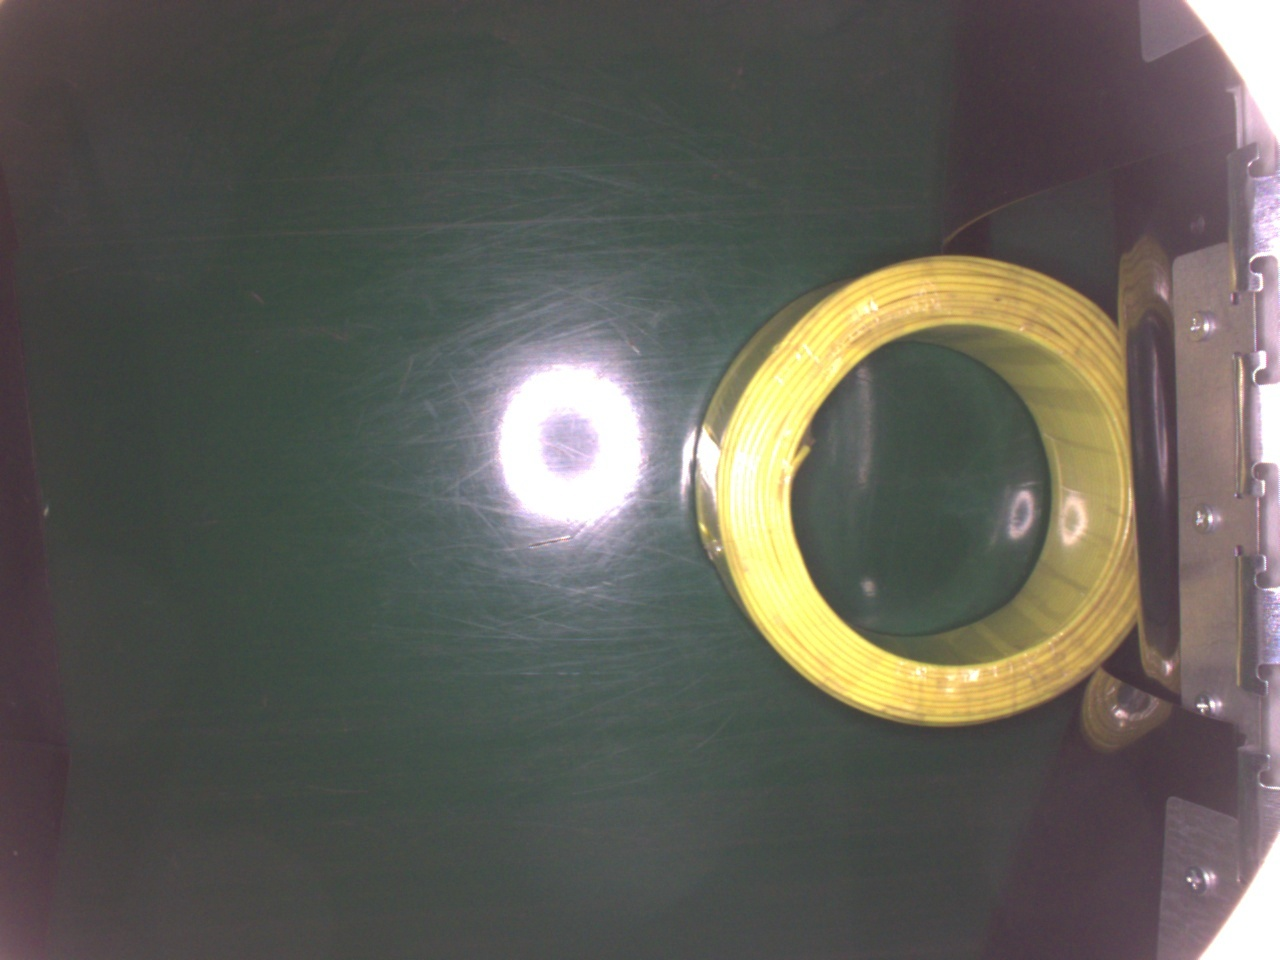yellow: (691, 253, 1136, 727)
